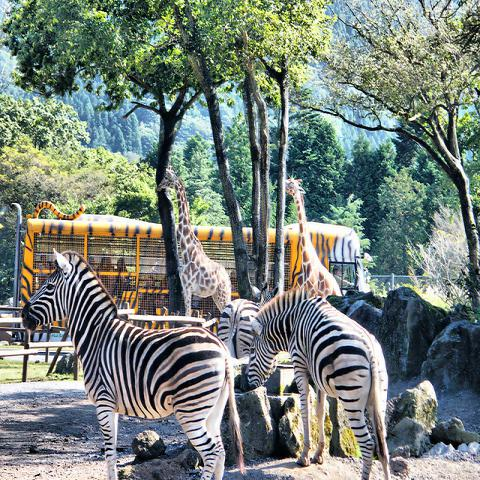bus: (21, 202, 366, 316)
